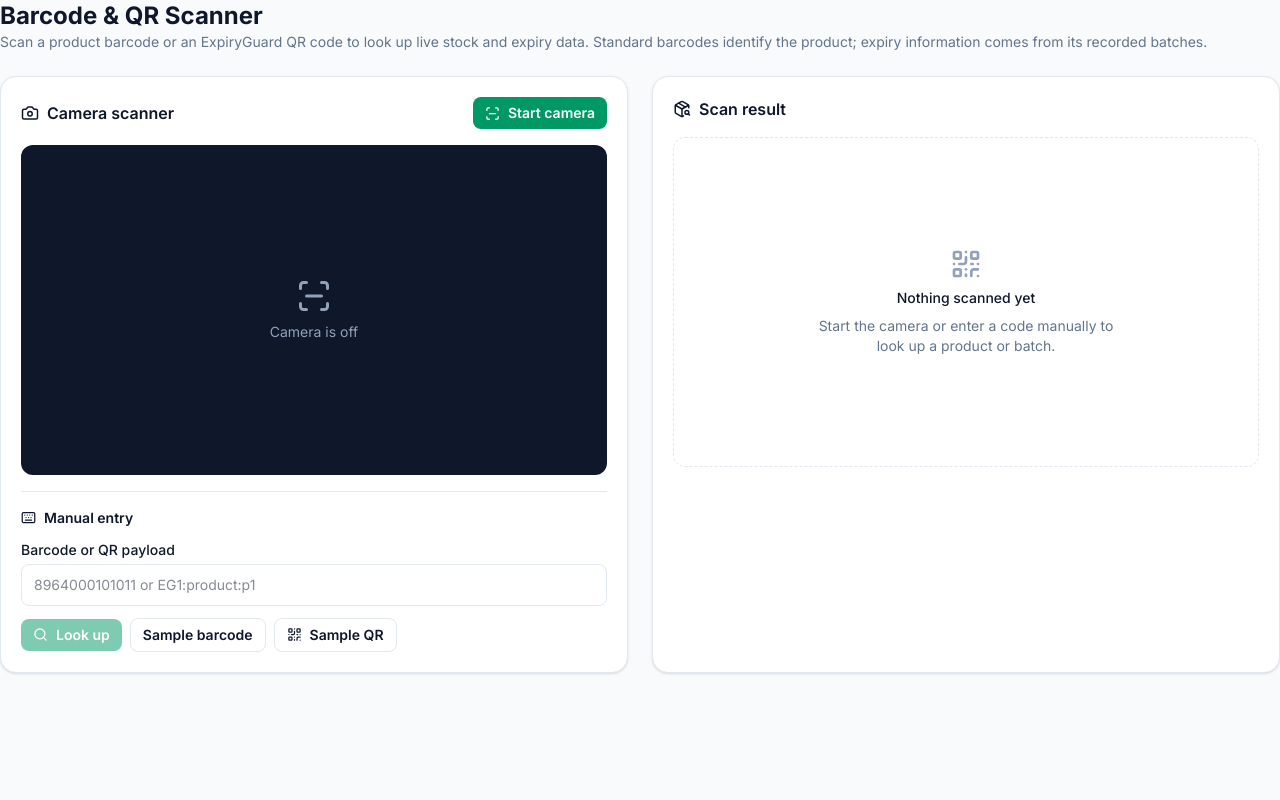
ScannerPage › looks up a product from a manually entered barcode
This screenshot has width=1280, height=800.
Expected: the text "Nothing scanned yet" is shown, [897,288,1035,308]
Type "8964000101011" into the field labelled "Barcode or QR payload" at (314, 585), box [21,564,607,606]
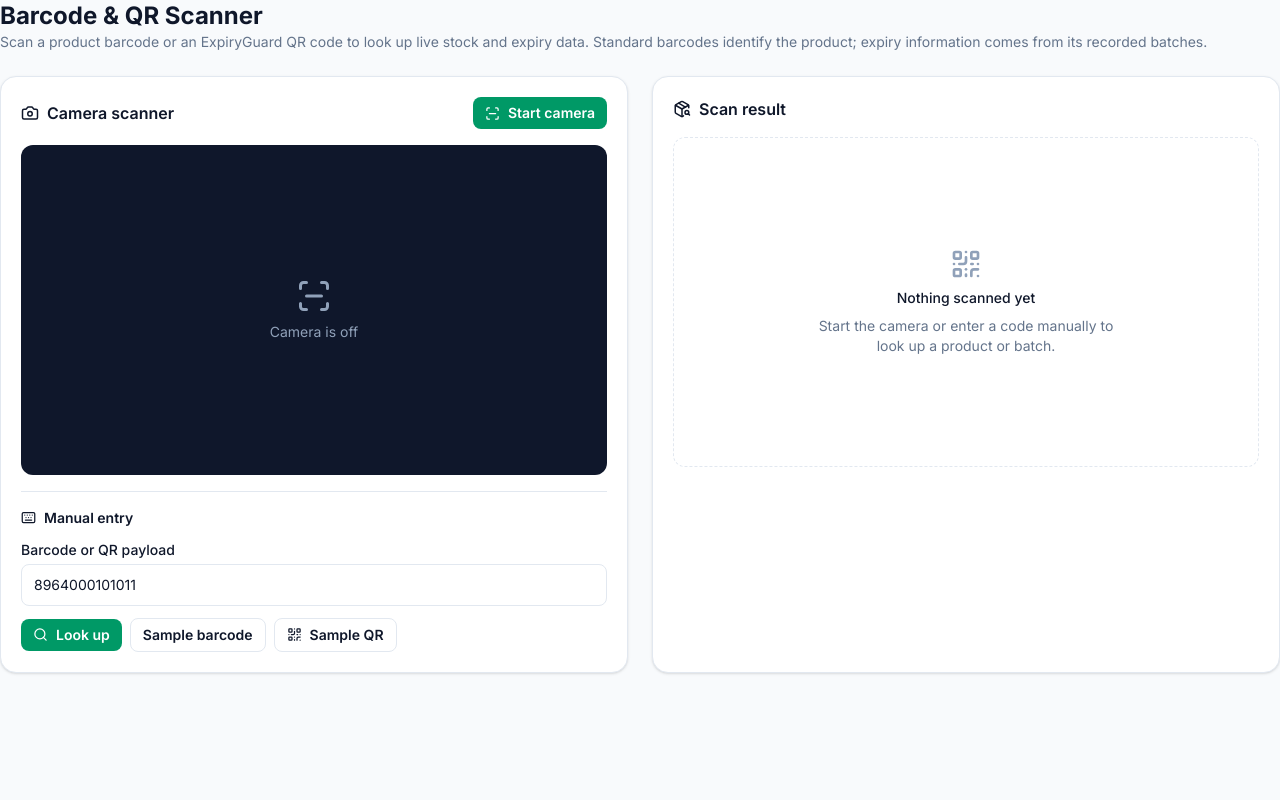
Click the button "Look up" at (71, 635), box [21,619,122,651]
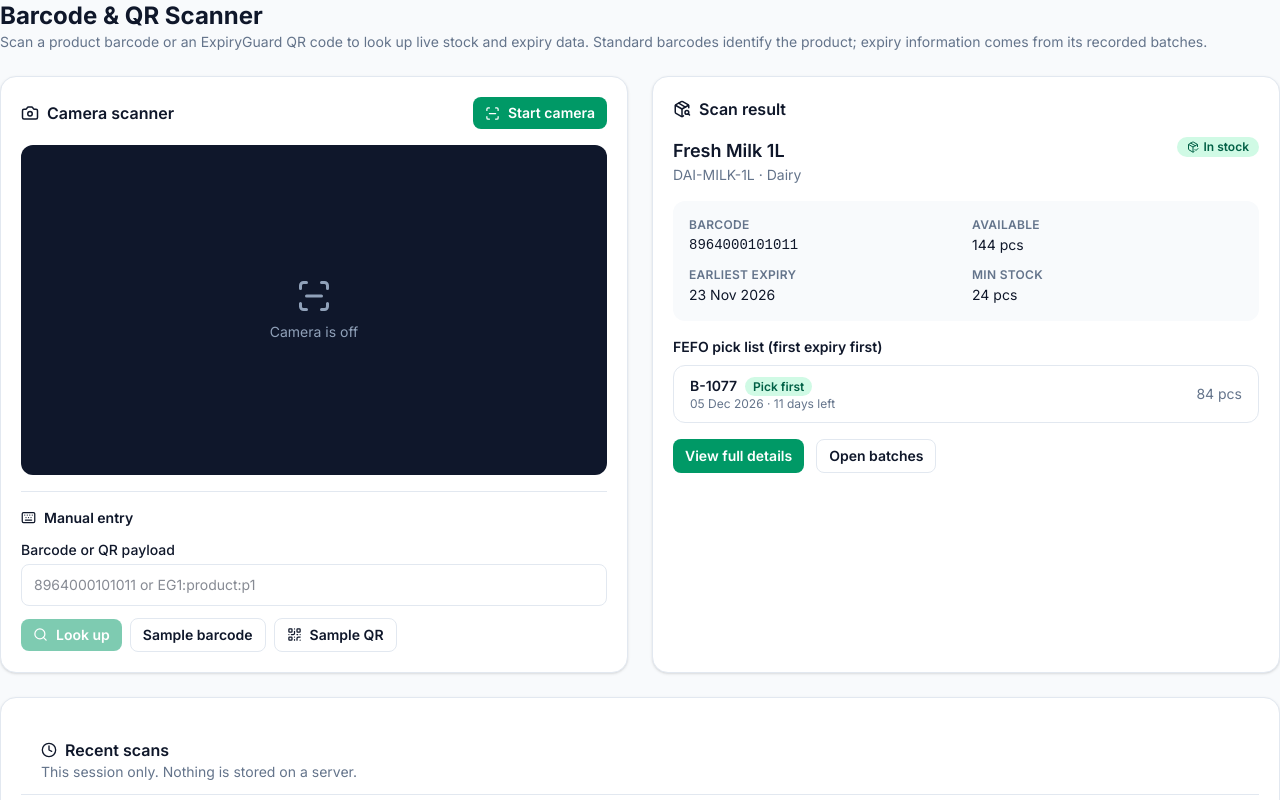
Expected: the text "Fresh Milk 1L" is shown, [673,137,801,165]
Expected: the heading "FEFO pick list (first expiry first)" is shown, [673,338,882,355]
Expected: the text "Pick first" is shown, [745,377,812,396]
